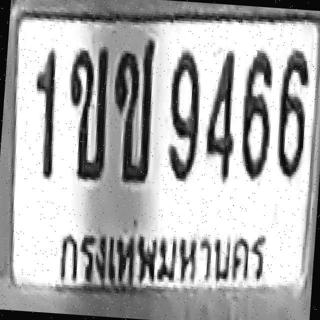A02: (62, 43, 111, 179)
A10: (108, 34, 157, 182)
N01: (29, 46, 60, 180)
N04: (202, 46, 240, 181)
N06: (237, 47, 275, 180), (274, 47, 310, 177)
N09: (164, 46, 203, 180)
P04: (50, 206, 272, 300)
